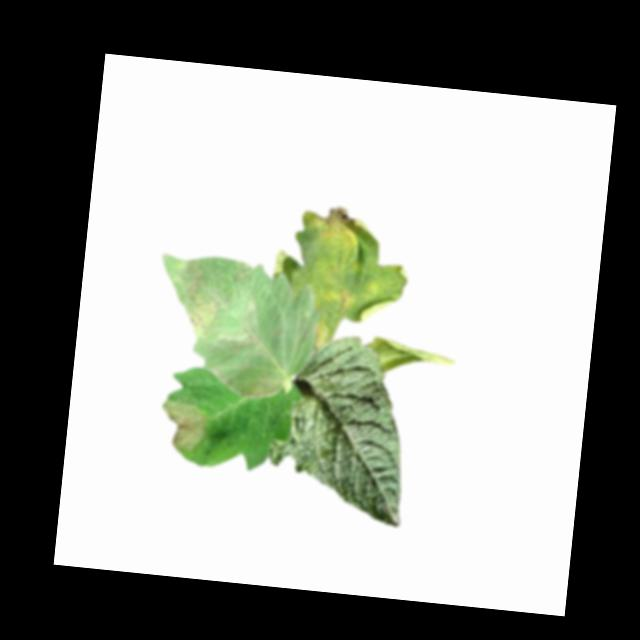Late_blight: (171, 257, 223, 340), (366, 335, 459, 379), (203, 362, 284, 402), (313, 204, 369, 253), (158, 399, 207, 453), (329, 286, 354, 314), (231, 259, 252, 287), (312, 319, 329, 351)
